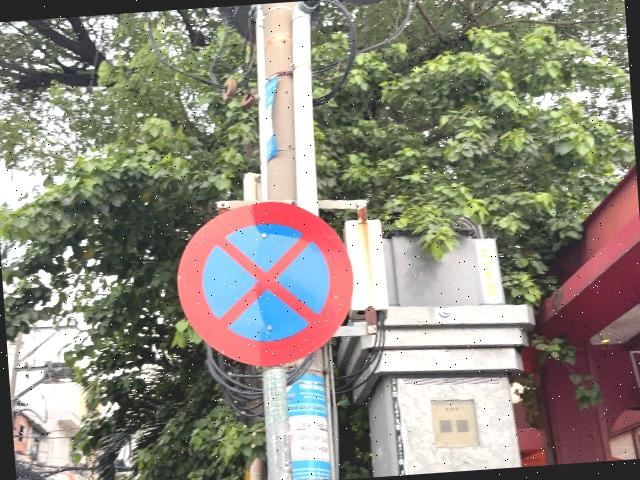cam-dung-va-do-xe: (171, 197, 358, 372)
